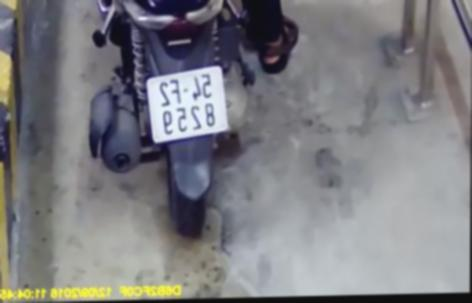License_Plate: (146, 63, 232, 148)
